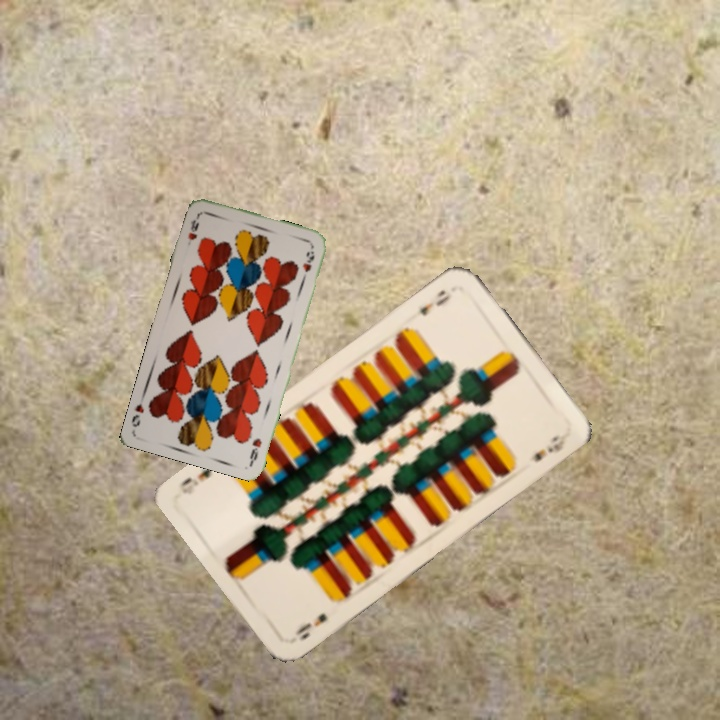E9: (415, 286, 454, 319), (291, 609, 330, 642)
H9: (183, 211, 202, 248), (246, 434, 264, 465)
